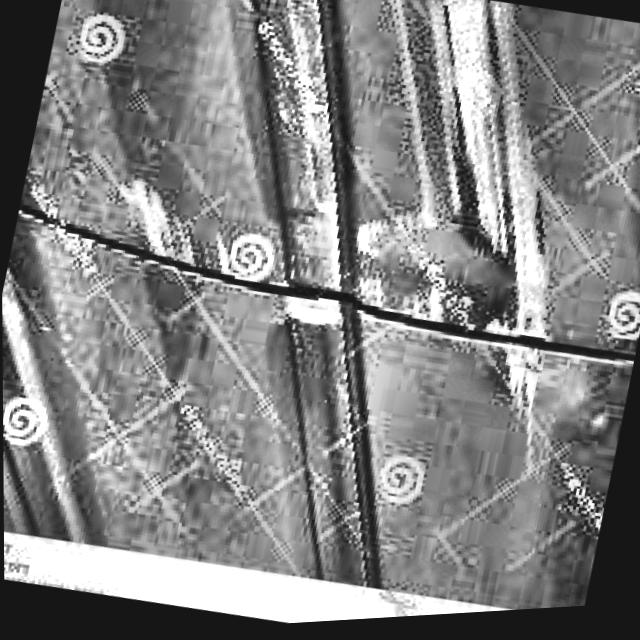door_scratch: (324, 0, 615, 418), (103, 174, 229, 288)
